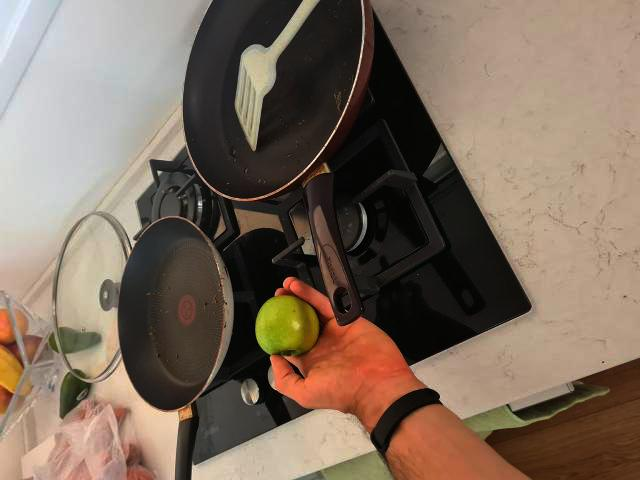apple: (257, 294, 318, 356)
